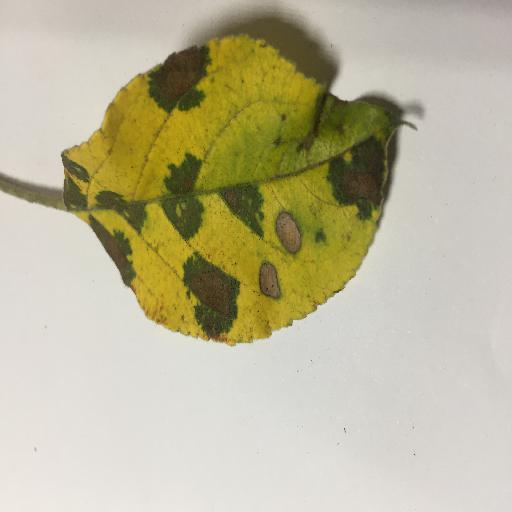Brown_Spot: (152, 47, 202, 97), (187, 274, 234, 319), (338, 168, 384, 200), (93, 229, 123, 273), (273, 214, 300, 253), (257, 266, 279, 297), (303, 119, 319, 147), (227, 193, 241, 210), (181, 182, 194, 190)
